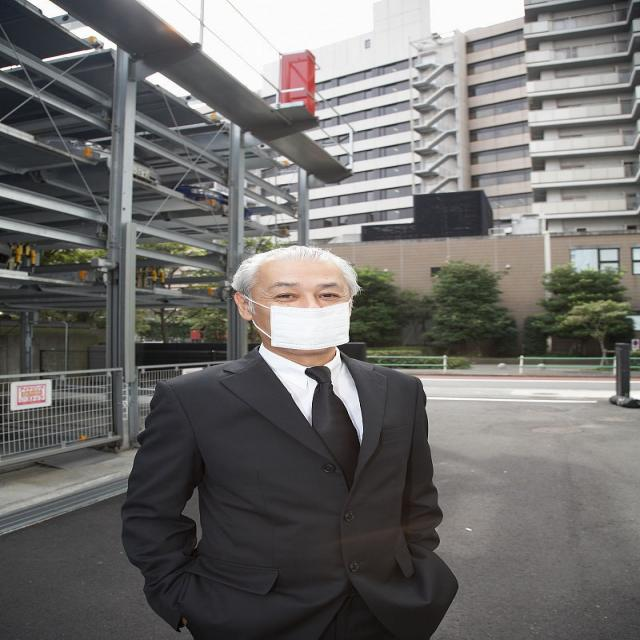mask: (255, 264, 347, 351)
